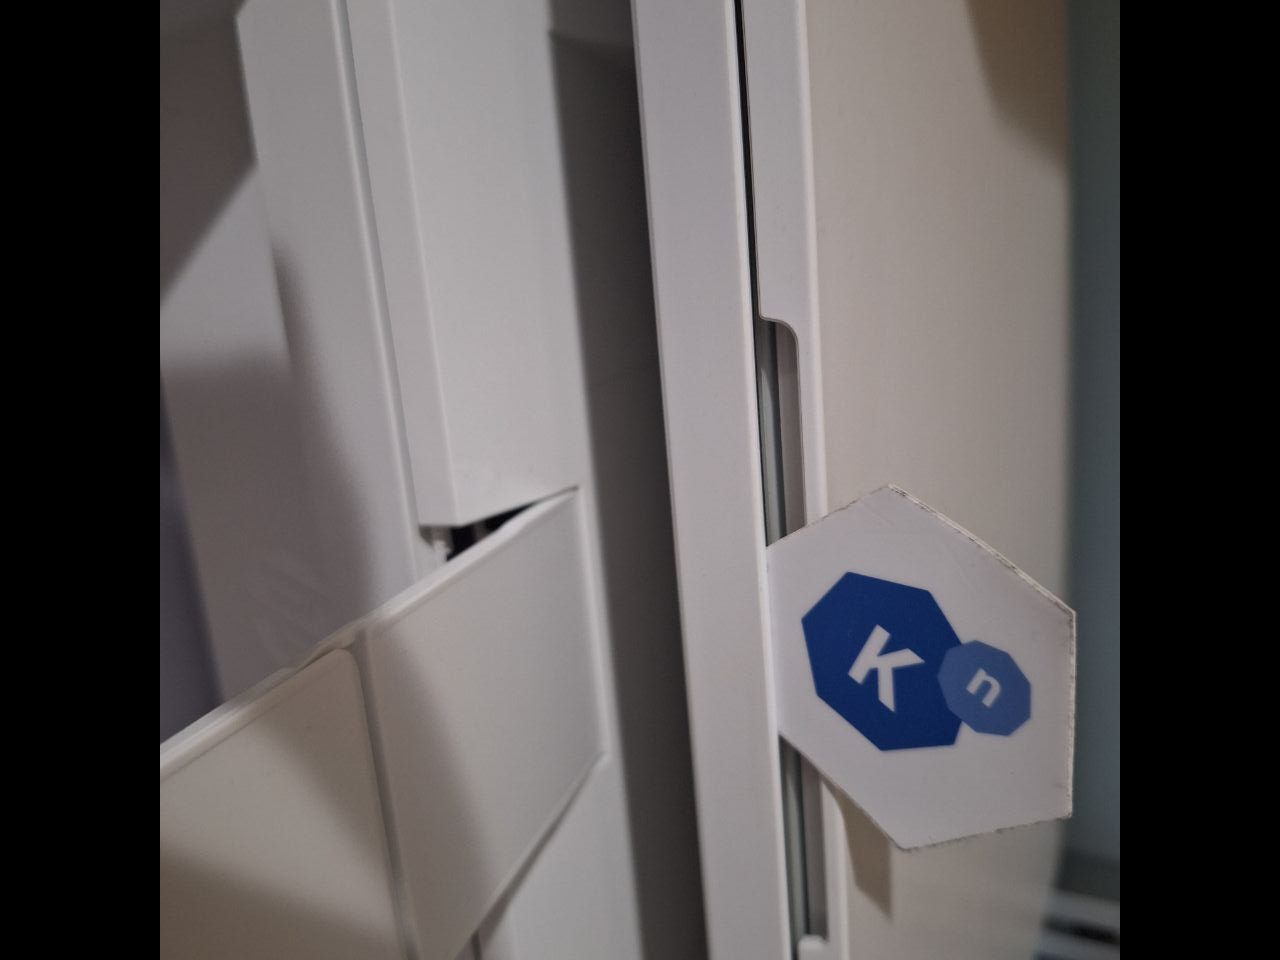knative: (798, 573, 1032, 754)
